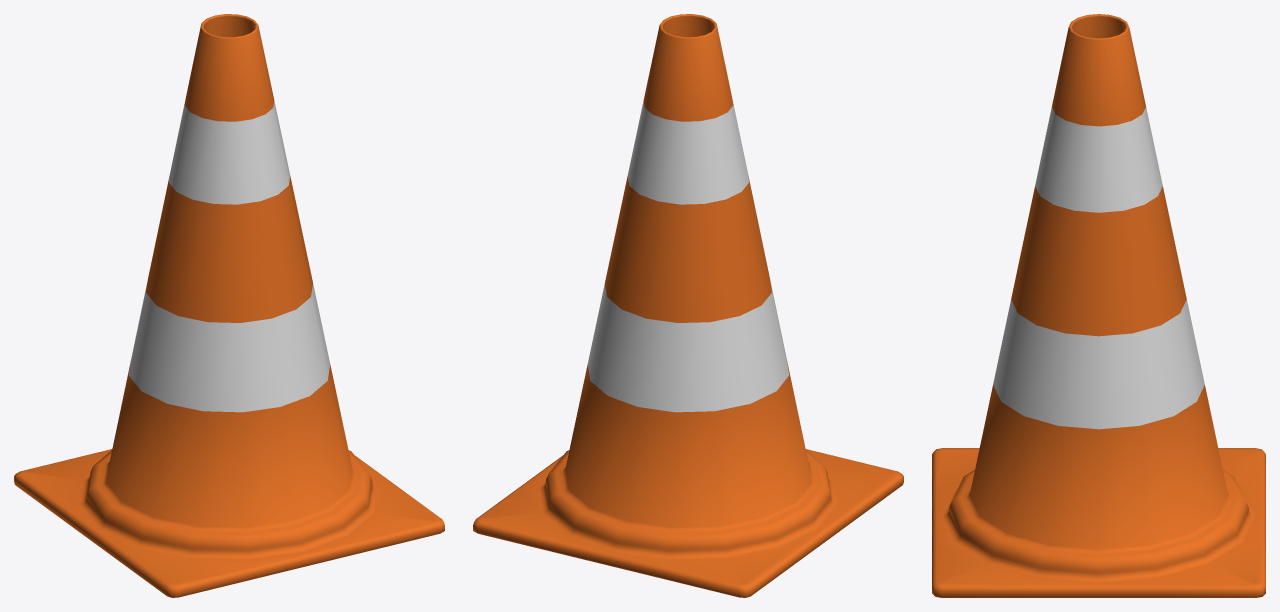
File: Cono.fbx
The picture shows the model from 3 angles, left to right: view 1: azimuth 30°, elevation 25°; view 2: azimuth 150°, elevation 25°; view 3: azimuth 270°, elevation 25°; orthographic projection. The views are drawn at different scales.
Visible parts, largest first — view 1: Traffic_cone_L; view 2: Traffic_cone_L; view 3: Traffic_cone_L.
Boxes of the visible parts, x1=… form: Traffic_cone_L: x1=14, y1=14, x2=444, y2=597; Traffic_cone_L: x1=473, y1=14, x2=903, y2=597; Traffic_cone_L: x1=932, y1=14, x2=1265, y2=597.
Size of the model in its own units: 109 by 181 by 109.
